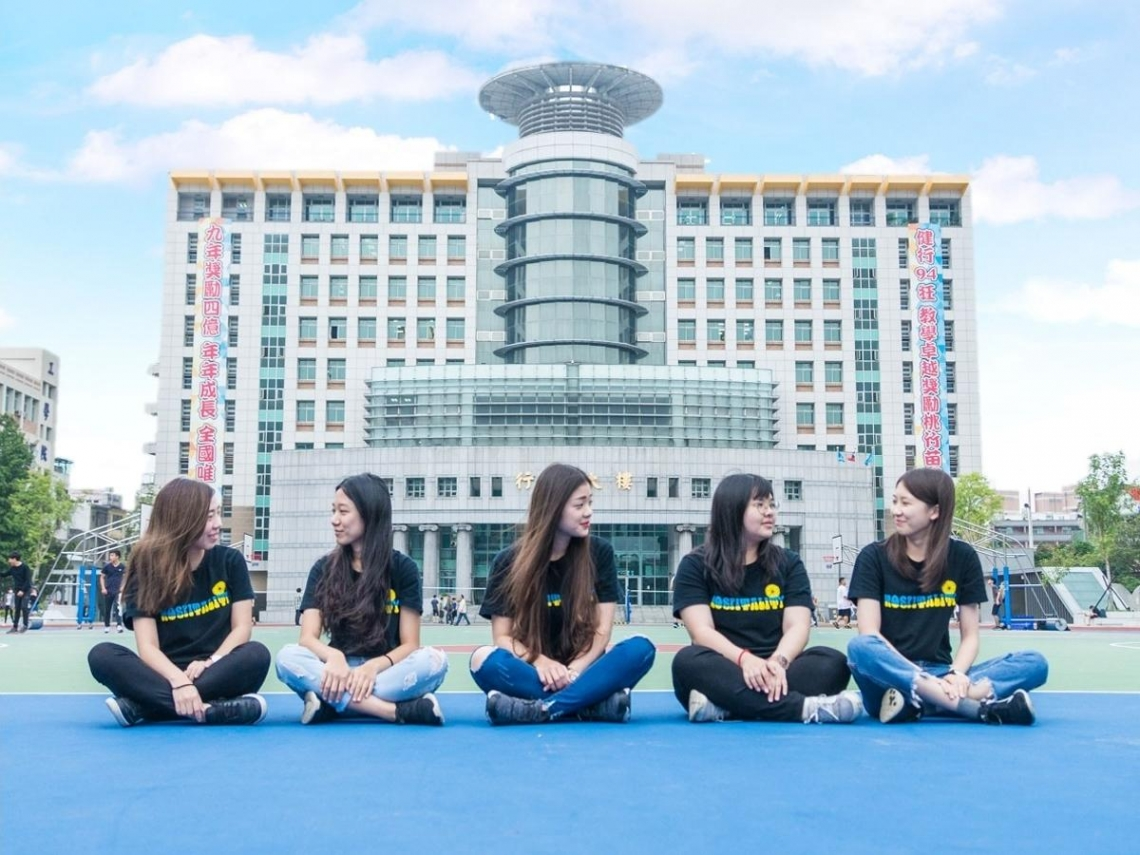people: (843, 468, 1054, 721), (669, 475, 862, 723), (473, 462, 657, 721), (275, 475, 451, 728), (93, 478, 272, 726), (6, 552, 38, 634), (93, 552, 127, 626)
